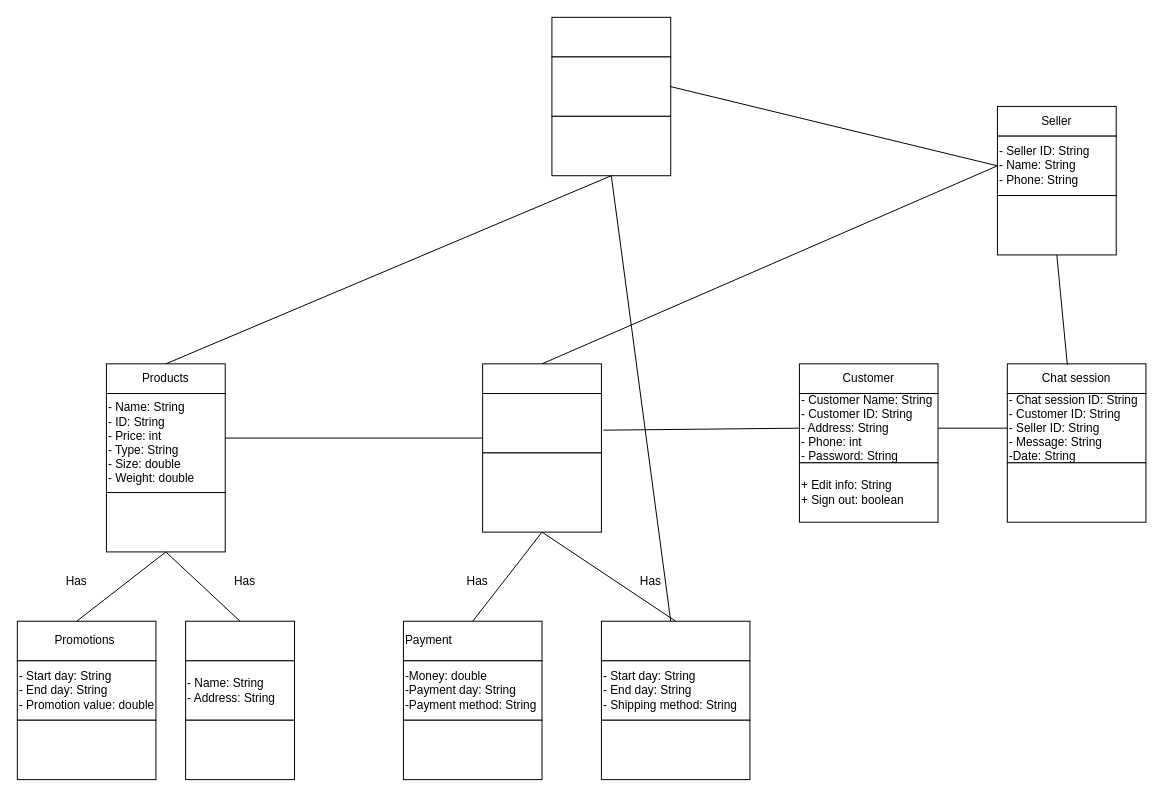
This 1163x797 diagram has some shape labels left out. The centre of each missing label's shape, as x and y in pixels:
"- Product ID: String - Numbers: int" goes at pixel 541 423.
"- Storage ID: String - Product: Product - Number of Products: int" goes at pixel 611 86.
"Provider" goes at pixel 240 640.
"Shipping order" goes at pixel 675 640.
"Shopping carts" goes at pixel 541 378.
"Storage" goes at pixel 611 36.
